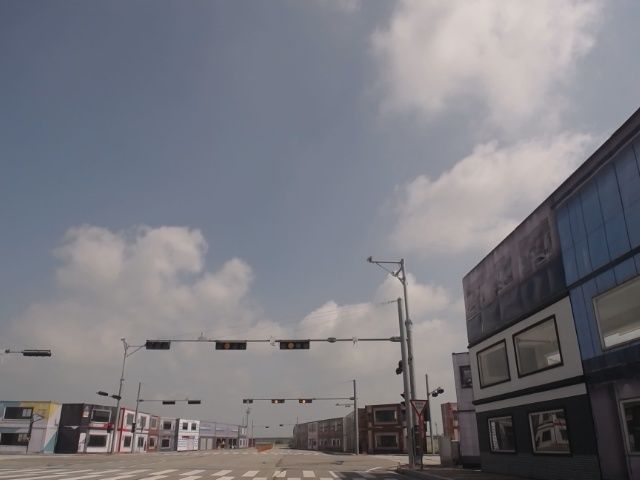orange_4: (217, 340, 245, 350), (280, 341, 310, 349)
